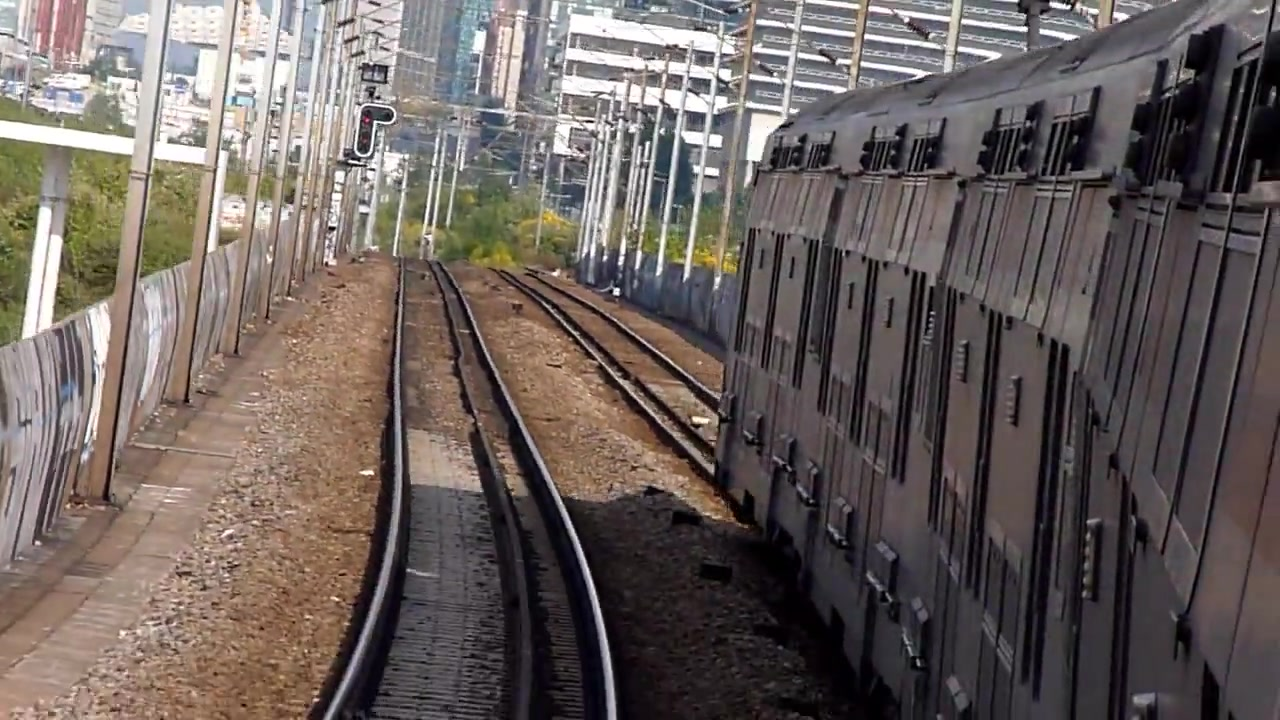train: (715, 1, 1280, 720)
